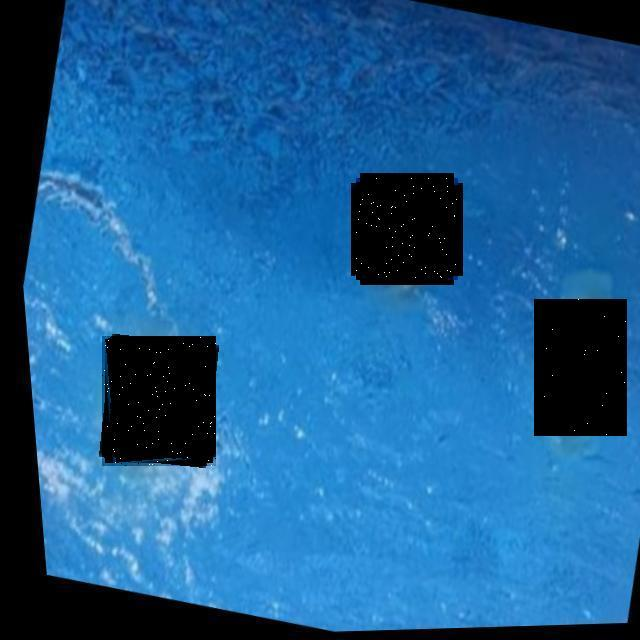swimming: (102, 336, 216, 466), (534, 299, 627, 436), (356, 178, 458, 280)
